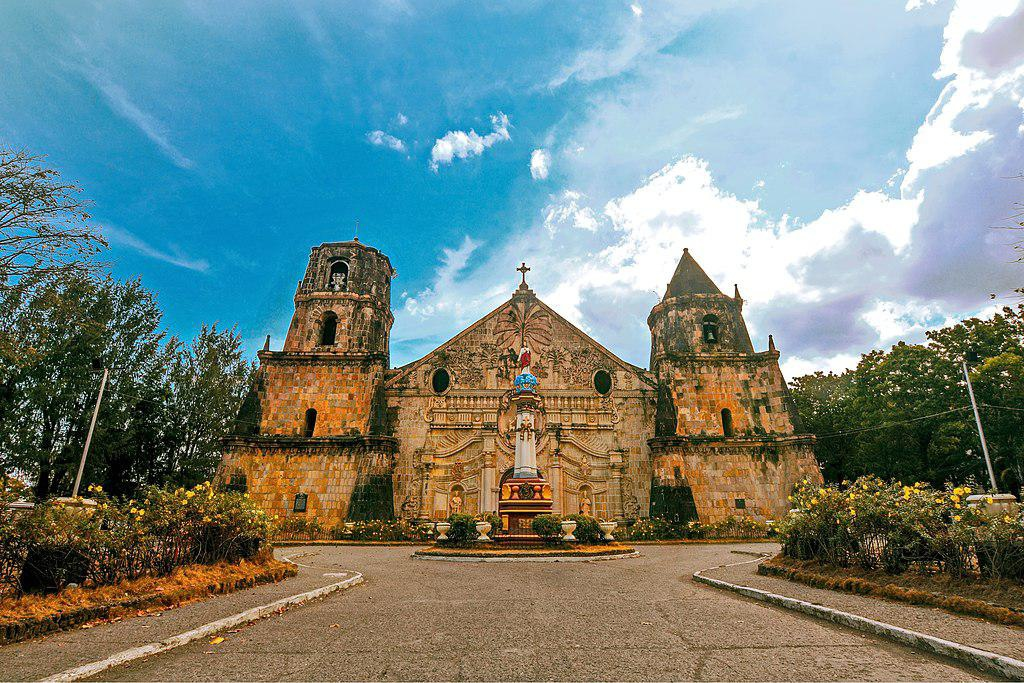miagao_church_miagao_iloilo: (229, 215, 832, 539)
